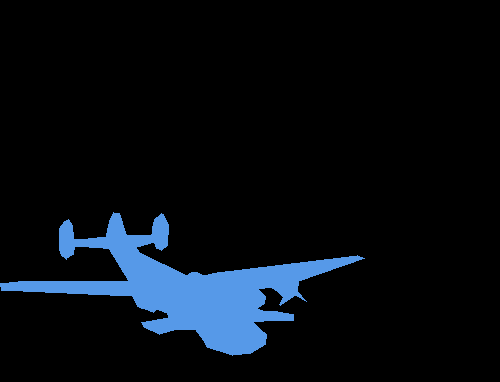Airplane: (0, 212, 364, 356)
